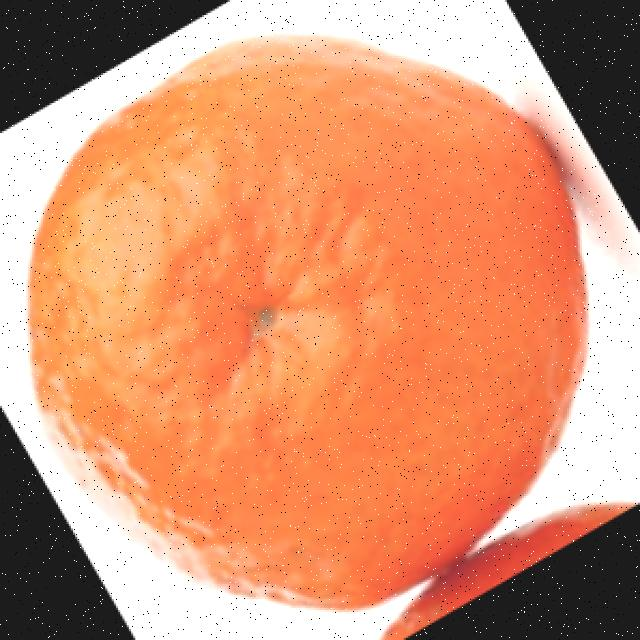orange: (28, 29, 590, 618)
